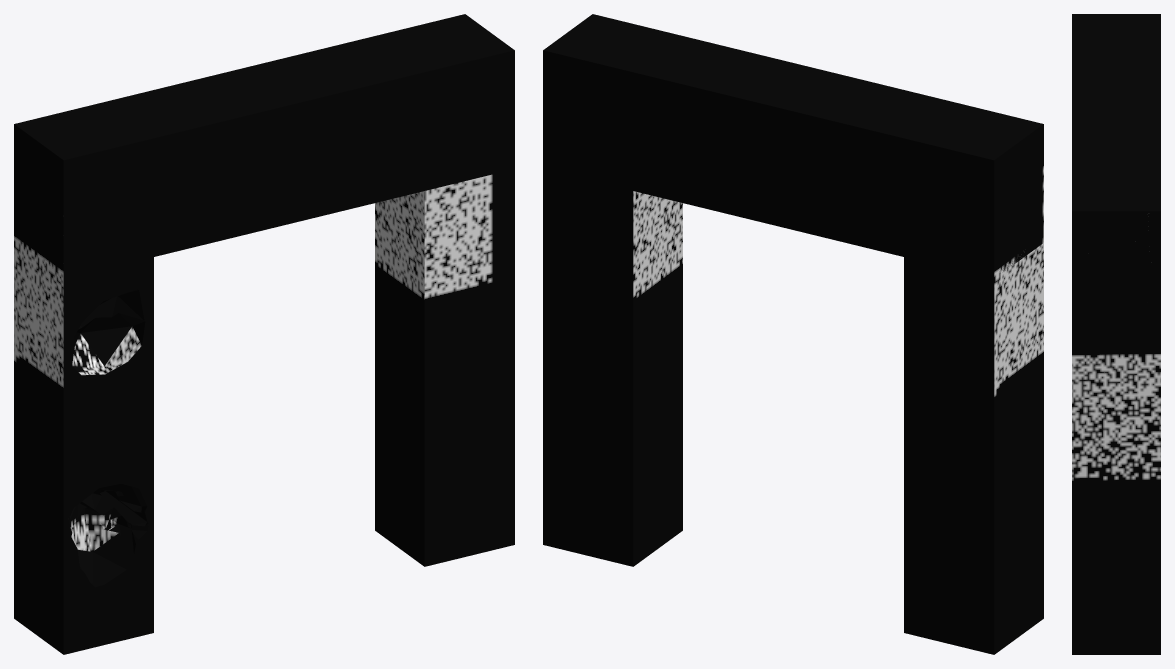
File: SM_AF_Module_Gateway_Damaged.glb
The picture shows the model from 3 angles, left to right: view 1: azimuth 30°, elevation 25°; view 2: azimuth 150°, elevation 25°; view 3: azimuth 270°, elevation 25°; orthographic projection. The views are drawn at different scales.
Parts seen in each view (by area): view 1: SM_AF_Module_Gateway_Damaged; view 2: SM_AF_Module_Gateway_Damaged; view 3: SM_AF_Module_Gateway_Damaged.
Boxes of the visible parts, <box> form: SM_AF_Module_Gateway_Damaged: <box>14,14,514,654</box>; SM_AF_Module_Gateway_Damaged: <box>543,14,1043,654</box>; SM_AF_Module_Gateway_Damaged: <box>1072,14,1160,654</box>.
Bounding box in the file's own units: 4.2 × 4.4 × 0.8.
1 material, 1 textured.
